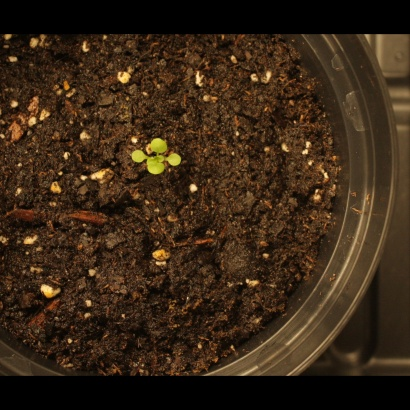leaf: (150, 131, 173, 154), (169, 150, 192, 173), (146, 163, 169, 186), (125, 146, 148, 169)
